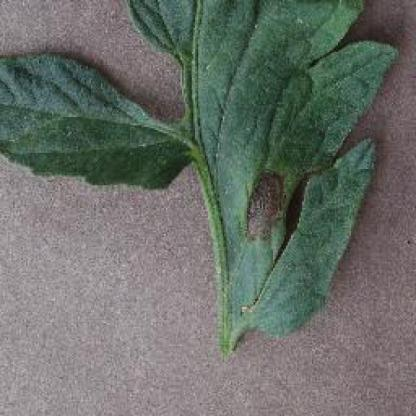Tomato_Blight: (0, 0, 396, 349)
